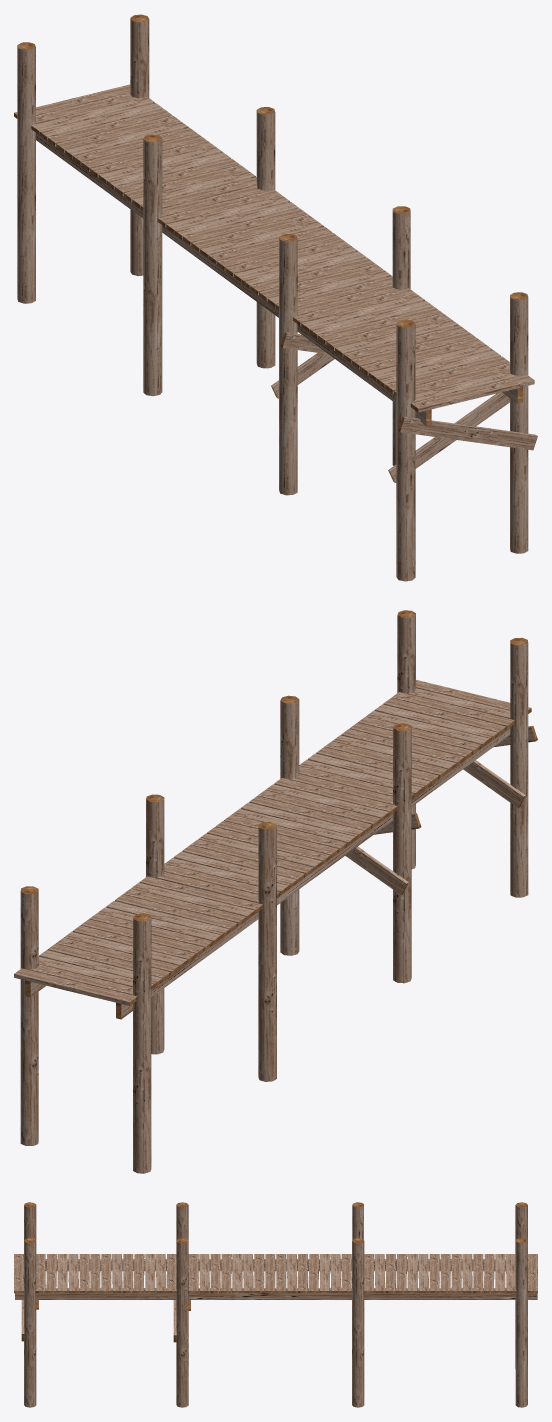
File: DESCK_ELEMENT_1.fbx
The picture shows the model from 3 angles, top to bottom: view 1: azimuth 30°, elevation 25°; view 2: azimuth 150°, elevation 25°; view 3: azimuth 270°, elevation 25°; orthographic projection. The views are drawn at different scales.
Visible parts, largest first — view 1: Cylinder, Cylinder.002, Cube.050, Cube.051, Cube.052, Cube.048, Cube.036, Cube.003, Cube.020, Cube.004, Cube.035, Cube.002 (+42 smaller); view 2: Cylinder, Cube.050, Cylinder.002, Cube, Cube.029, Cube.013, Cube.045, Cube.030, Cube.014, Cube.032, Cube.044, Cube.016 (+41 smaller); view 3: Cylinder, Cube.049, Cylinder.002, Cube.050, Cube.028, Cube.003, Cube.005, Cube.006, Cube.007, Cube.009, Cube.010, Cube.012 (+36 smaller).
Part boxes in pixels (<box>): Cylinder: <box>17,14,415,581</box>; Cylinder.002: <box>510,292,528,553</box>; Cube.050: <box>36,133,431,425</box>; Cube.051: <box>398,416,537,450</box>; Cube.052: <box>388,392,509,482</box>; Cube.048: <box>410,375,534,412</box>; Cube.036: <box>309,300,433,338</box>; Cube.003: <box>39,103,163,140</box>; Cube.020: <box>174,202,298,239</box>; Cube.004: <box>47,109,171,146</box>; Cube.035: <box>301,294,424,332</box>; Cube.002: <box>31,97,154,134</box>; Cylinder: <box>20,637,528,1173</box>; Cube.050: <box>116,728,510,1019</box>; Cylinder.002: <box>397,610,415,869</box>; Cube: <box>14,968,137,1005</box>; Cube.029: <box>249,796,372,833</box>; Cube.013: <box>115,894,237,932</box>; Cube.045: <box>383,698,506,735</box>; Cube.030: <box>257,790,380,827</box>; Cube.014: <box>123,888,246,925</box>; Cube.032: <box>274,778,397,815</box>; Cube.044: <box>374,704,497,741</box>; Cube.016: <box>139,876,262,913</box>; Cylinder: <box>24,1202,527,1407</box>; Cube.049: <box>15,1288,537,1299</box>; Cylinder.002: <box>24,1238,36,1407</box>; Cube.050: <box>45,1259,505,1271</box>; Cube.028: <box>232,1254,242,1293</box>; Cube.003: <box>495,1254,505,1293</box>; Cube.005: <box>473,1254,483,1293</box>; Cube.006: <box>462,1254,472,1293</box>; Cube.007: <box>451,1254,461,1293</box>; Cube.009: <box>440,1254,450,1293</box>; Cube.010: <box>429,1254,439,1293</box>; Cube.012: <box>407,1254,417,1293</box>.
Size of the model in its own units: 201 by 352 by 1018.
1 material, 1 textured.
